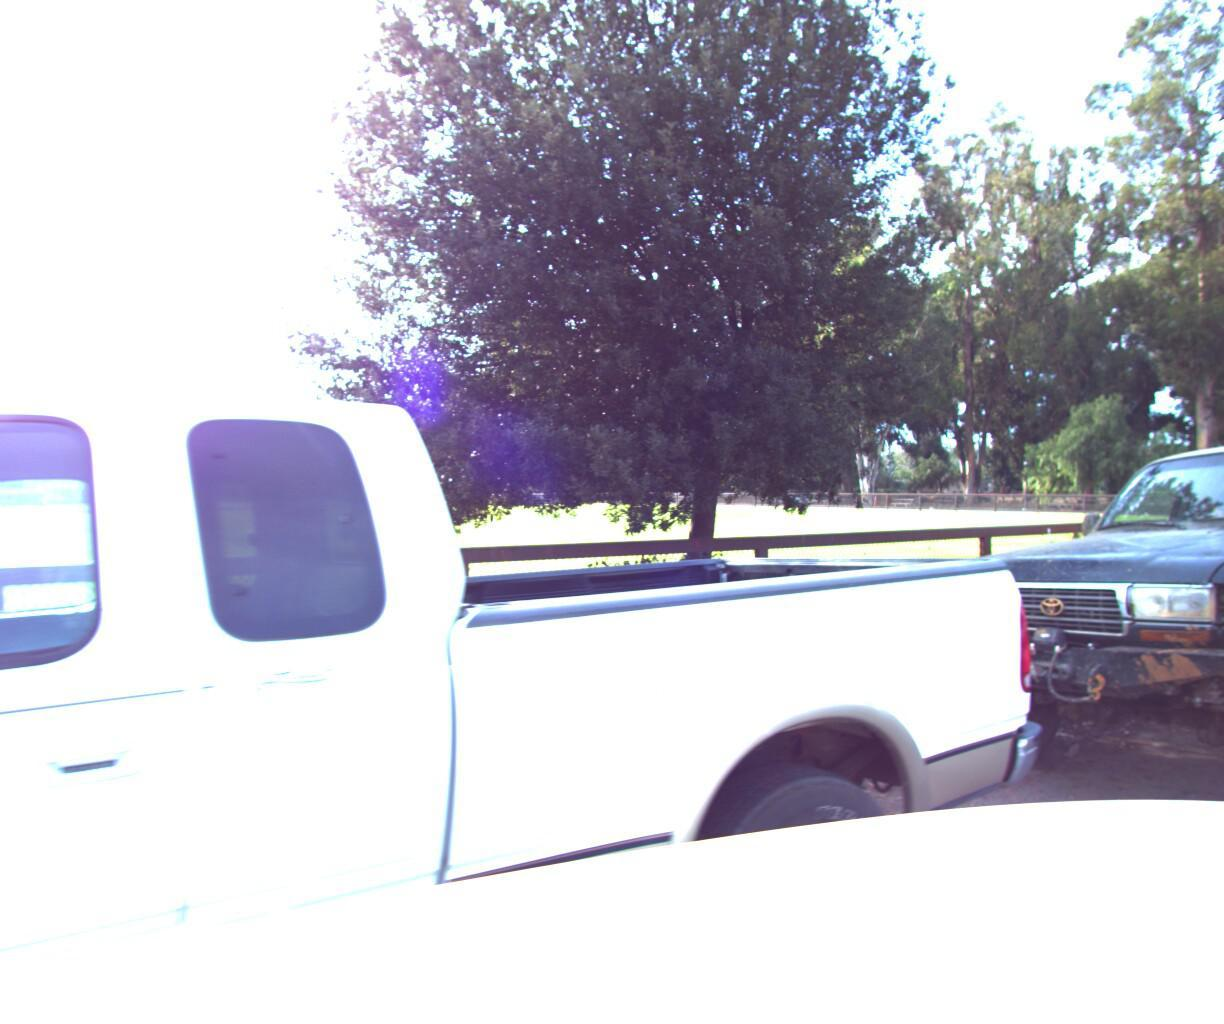car: (0, 0, 1086, 1024), (889, 364, 1224, 928)
